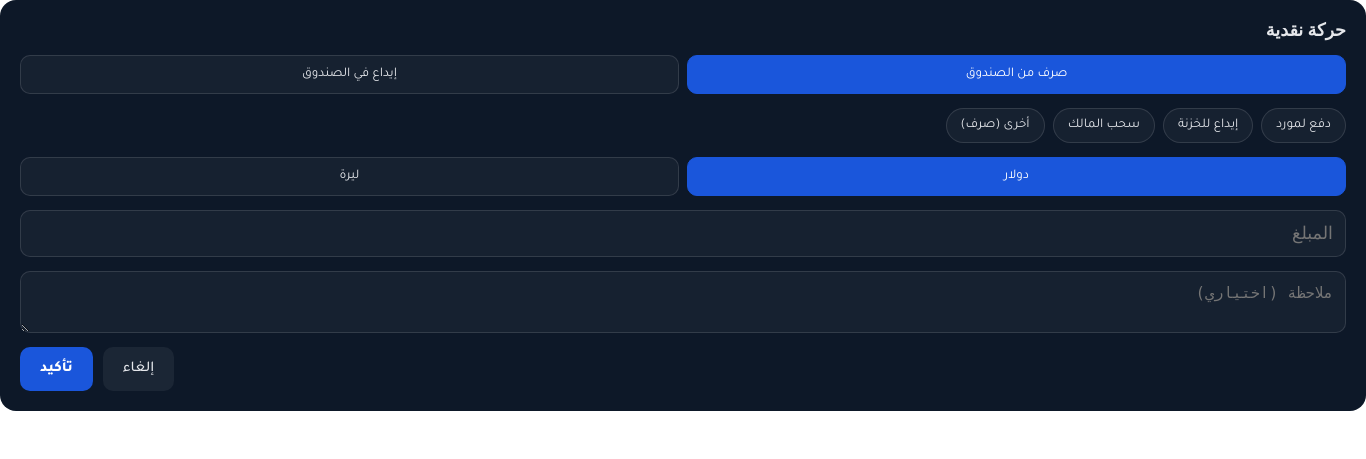
Scenario: RecordCashMovementSheet › shows an overdraw warning when amount exceeds the drawer, but still allows confirm
Step 1. Click the button with test id "cat-paid_supplier" → (1304, 126), box left=1261, top=108, right=1346, bottom=143
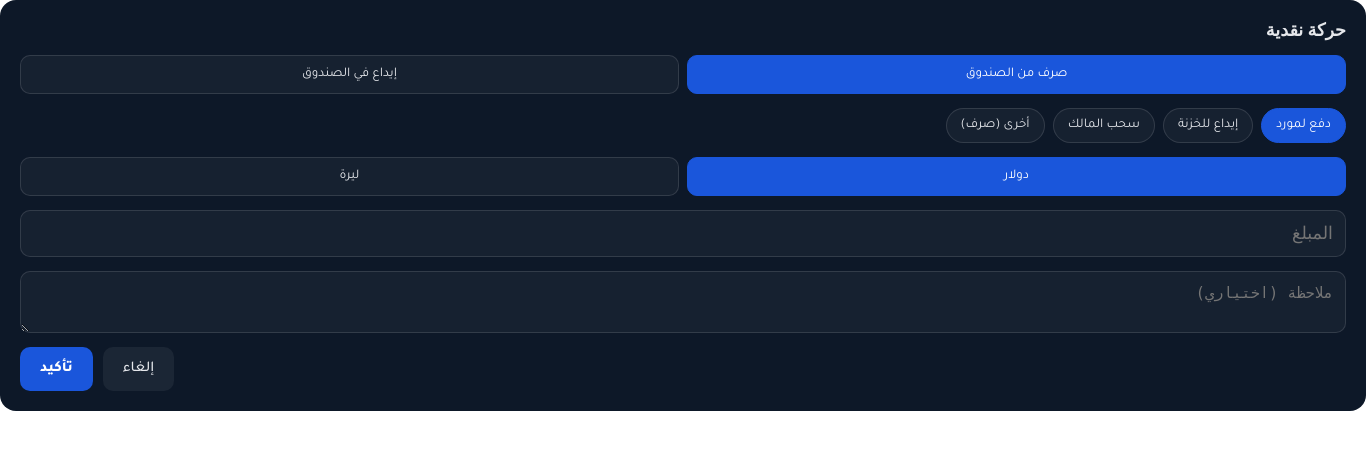
Step 2. Type "300" into the number field with test id "amount" → (683, 234), box left=20, top=210, right=1346, bottom=257
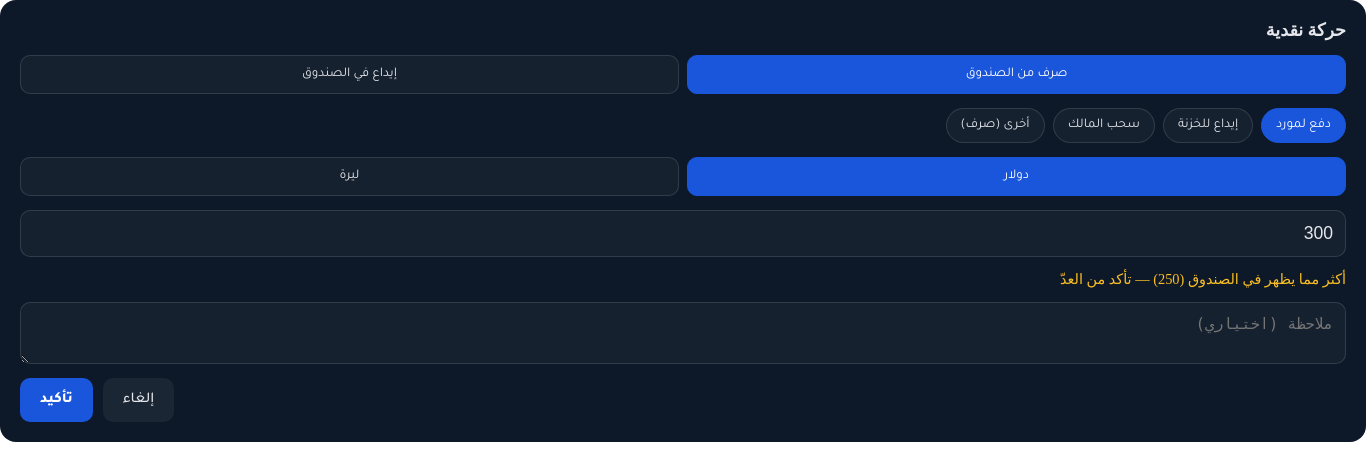
Expected: the button with test id "confirm" is enabled, left=20, top=378, right=93, bottom=422
Result: the text "أكثر مما يظهر في الصندوق (250) — تأكد من العدّ" is shown at left=1060, top=271, right=1346, bottom=287
